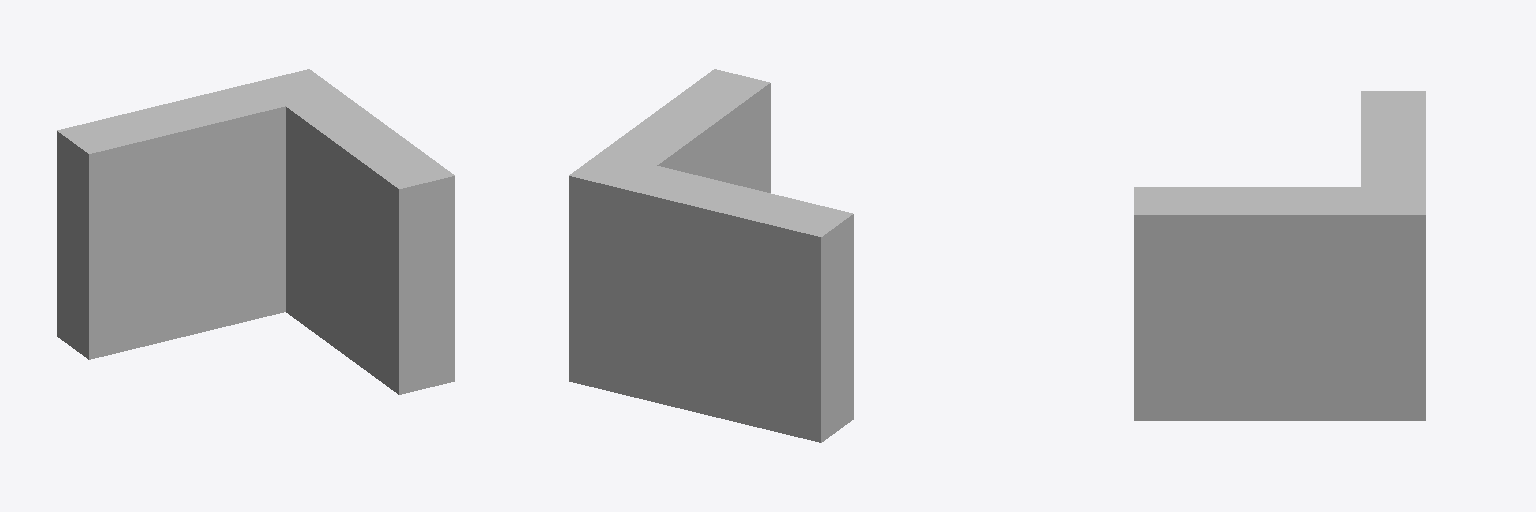
The model's file is wall_corner.obj.
3 views of the same model, side by side, from view 1: azimuth 30°, elevation 25°; view 2: azimuth 150°, elevation 25°; view 3: azimuth 270°, elevation 25° (orthographic).
Size of the model in its own units: 18 by 14 by 18.